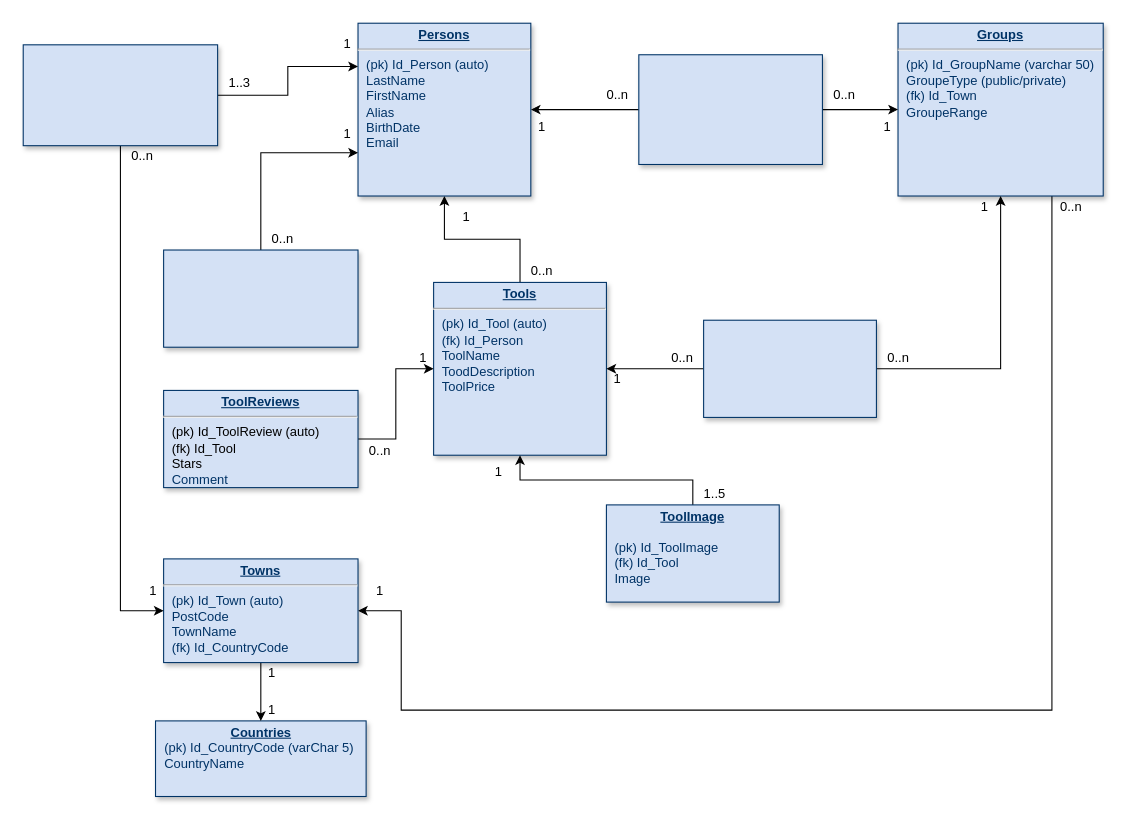
The diagram is 1129 pixels wide and 823 high, and some of its shapes have lost their labels. Here are the shapes that lost their labels. From the top down, the centre of each, then its label:
(x=121, y=96): PersonsTowns (pk) Id_PersonsRegions (auto) (fk) Id_Person (fk) Id_Town
(x=731, y=110): GroupsMembers (pk) (fk) Id_Person (pk) (fk) Id_GroupName GroupAdmin (boolean)
(x=261, y=300): PersonReviews (pk) Id_PersonReview (auto) (fk) Id_Person Stars Comment
(x=790, y=370): ToolsGroups (pk) (fk) Id_Tool (pk) (fk) Id_GroupName
